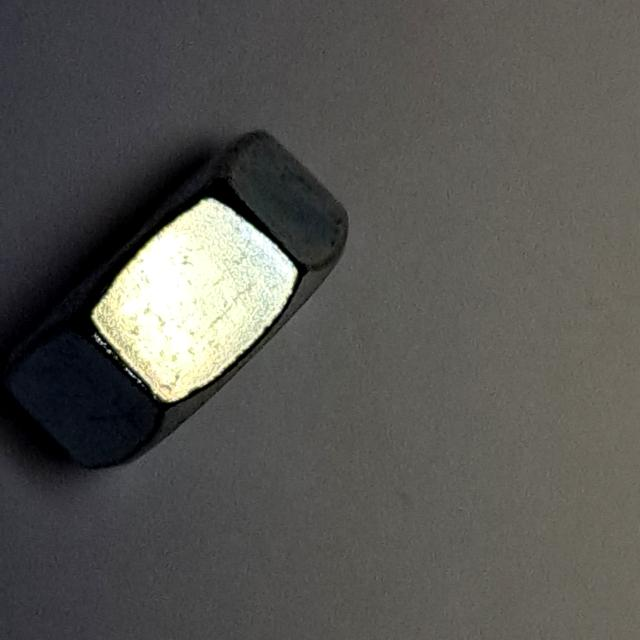Side_Excellent: (1, 105, 365, 489)
